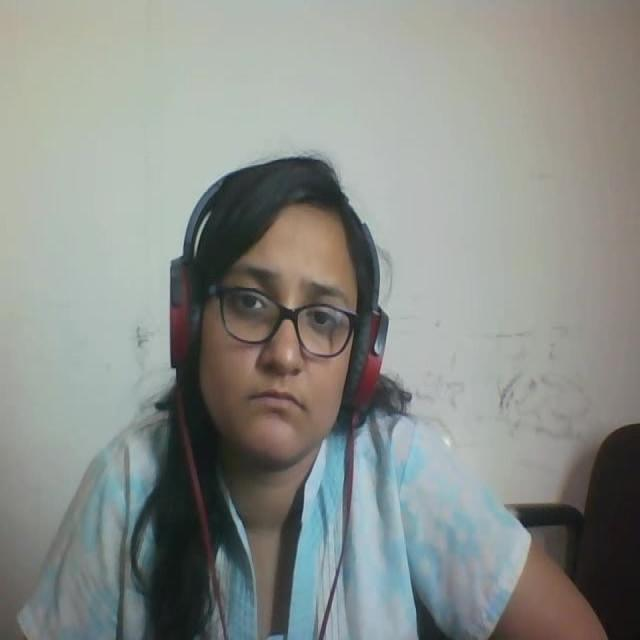Engaged: (164, 144, 408, 484)
